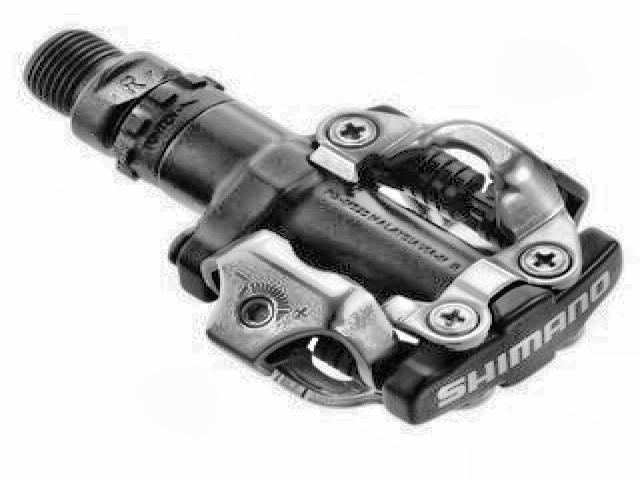pedal: (21, 24, 630, 421)
